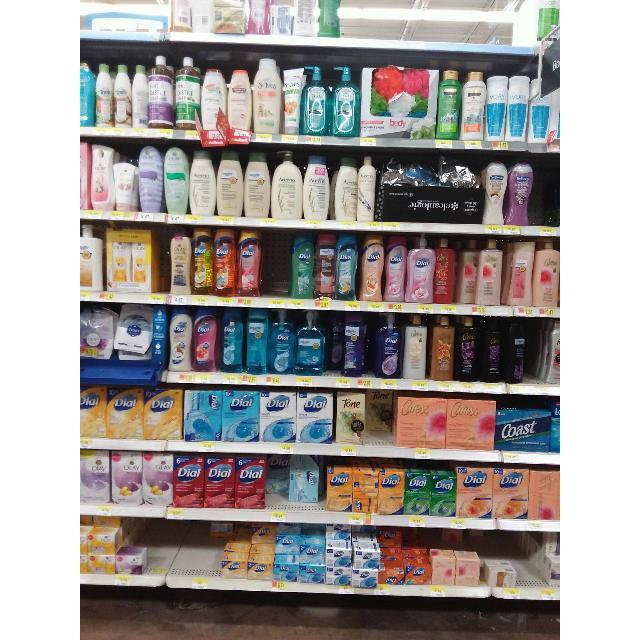empty: (148, 519, 210, 575), (262, 228, 288, 298), (534, 155, 558, 227), (514, 531, 540, 587), (526, 318, 542, 384)
front: (366, 430, 394, 446), (266, 494, 288, 511), (290, 501, 326, 511), (323, 368, 341, 378)
